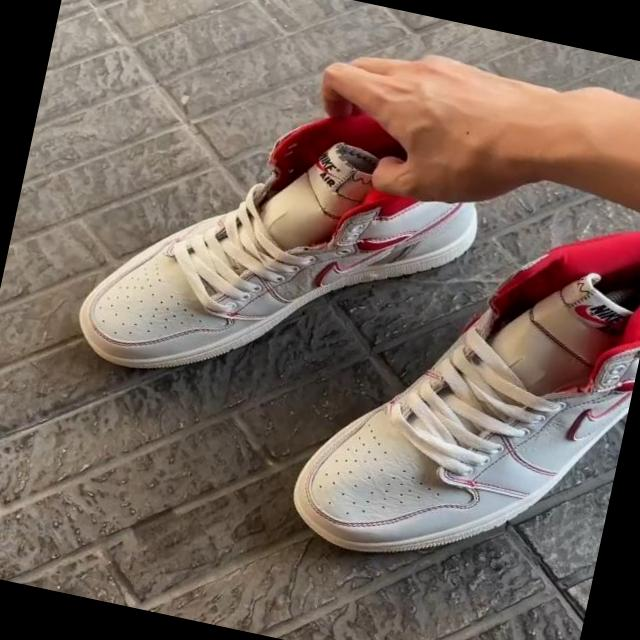nike_fake_jordan: (64, 65, 504, 440), (277, 170, 640, 603)
